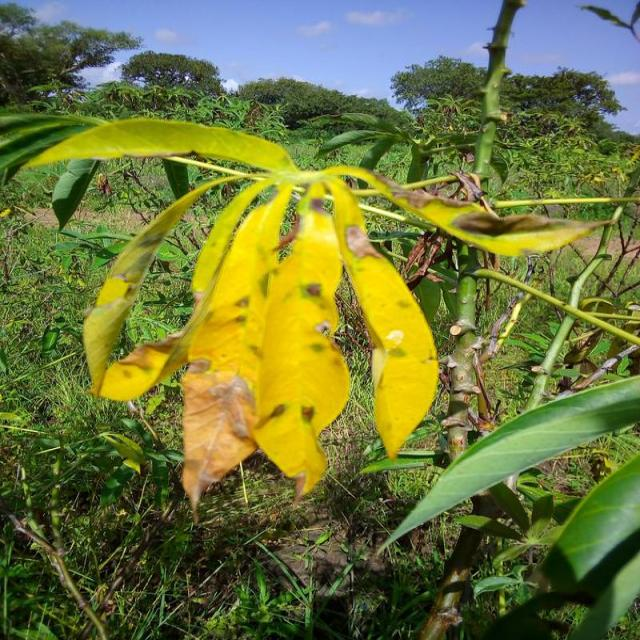cassava leaf: (1, 109, 623, 520), (374, 372, 640, 557)
